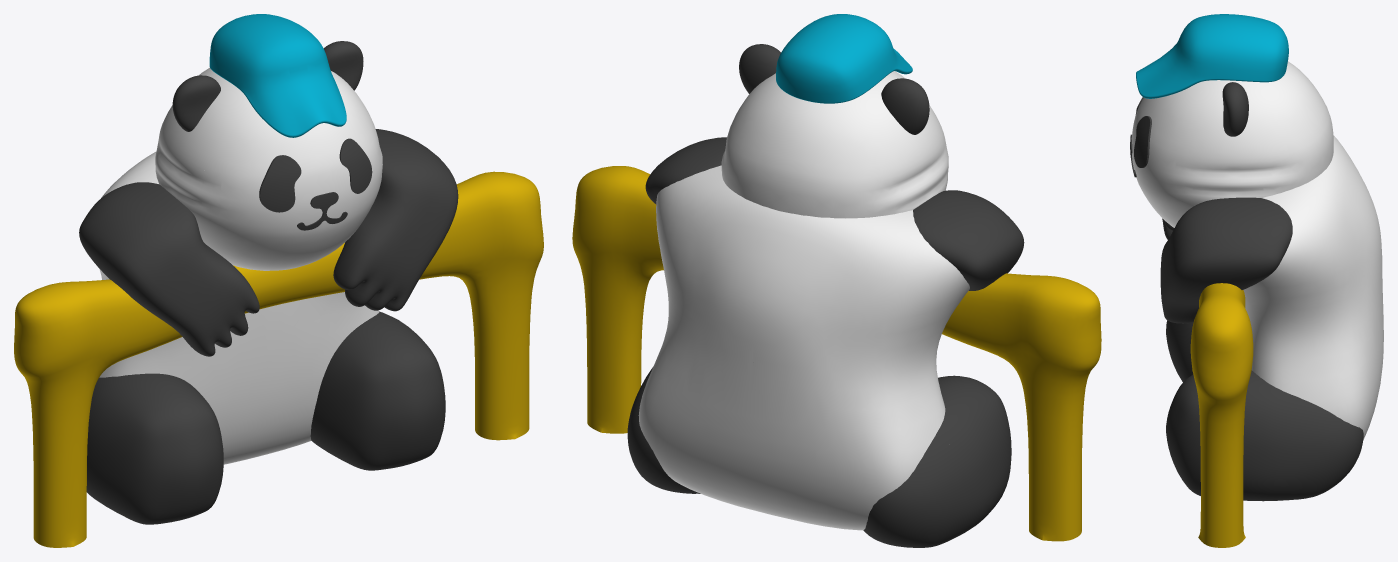
The picture shows the model from 3 angles, left to right: view 1: azimuth 30°, elevation 25°; view 2: azimuth 150°, elevation 25°; view 3: azimuth 270°, elevation 25°; orthographic projection. The views are drawn at different scales.
Parts seen in each view (by area): view 1: 023_sakai_panda; view 2: 023_sakai_panda; view 3: 023_sakai_panda.
Boxes of the visible parts, x1,y1,x2,y2 form: 023_sakai_panda: [14, 14, 543, 547]; 023_sakai_panda: [572, 14, 1101, 547]; 023_sakai_panda: [1130, 14, 1383, 547].
Size of the model in its own units: 0.2066 by 0.1733 by 0.0958.
